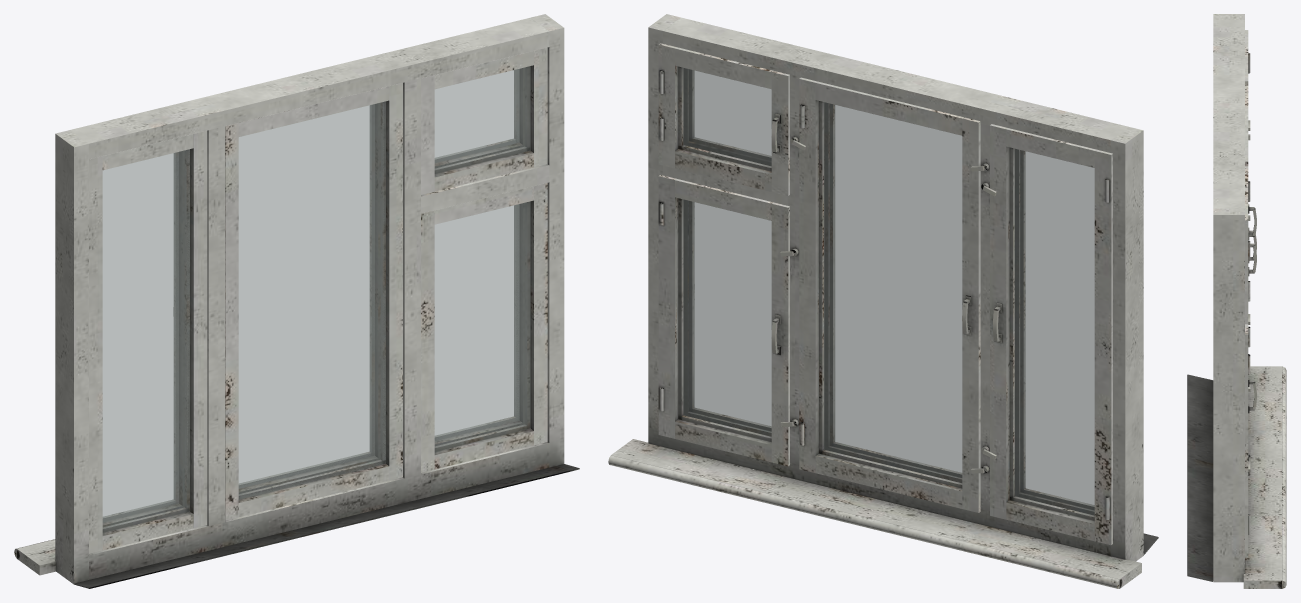
File: win_3_fort_left_web.glb
3 views of the same model, side by side, from view 1: azimuth 30°, elevation 25°; view 2: azimuth 150°, elevation 25°; view 3: azimuth 270°, elevation 25° (orthographic). The views are drawn at different scales.
Visible parts, largest first — view 1: Win3FortLeft_Body, Glass_Sash_C_out, Glass_Sash_C_in, Glass_Sash_R_out, Glass_Sash_R_in, Sash_C_Mesh, Sash_R_Mesh, Glass_Sash_L_out, Glass_Sash_L_in, Sash_L_Mesh, Fort_L_Mesh, Glass_Fort_L_out (+1 smaller); view 2: Win3FortLeft_Body, Glass_Sash_C_in, Glass_Sash_C_out, Sash_C_Mesh, Glass_Sash_R_in, Sash_R_Mesh, Glass_Sash_R_out, Glass_Sash_L_in, Sash_L_Mesh, Glass_Sash_L_out, Fort_L_Mesh, Glass_Fort_L_in (+1 smaller); view 3: Win3FortLeft_Body, Sash_L_Mesh, Fort_L_Mesh, Sash_C_Mesh, Sash_R_Mesh.
Part boxes in pixels (x1=…): Win3FortLeft_Body: x1=14, y1=14, x2=579, y2=588; Glass_Sash_C_out: x1=239, y1=102, x2=385, y2=499; Glass_Sash_C_in: x1=239, y1=105, x2=374, y2=488; Glass_Sash_R_out: x1=103, y1=149, x2=189, y2=532; Glass_Sash_R_in: x1=103, y1=153, x2=178, y2=521; Sash_C_Mesh: x1=225, y1=83, x2=402, y2=520; Sash_R_Mesh: x1=89, y1=130, x2=207, y2=553; Glass_Sash_L_out: x1=435, y1=202, x2=530, y2=451; Glass_Sash_L_in: x1=435, y1=204, x2=519, y2=440; Sash_L_Mesh: x1=421, y1=183, x2=547, y2=472; Fort_L_Mesh: x1=421, y1=47, x2=547, y2=194; Glass_Fort_L_out: x1=435, y1=66, x2=530, y2=173; Win3FortLeft_Body: x1=608, y1=14, x2=1158, y2=588; Glass_Sash_C_in: x1=824, y1=102, x2=961, y2=482; Glass_Sash_C_out: x1=835, y1=105, x2=961, y2=472; Sash_C_Mesh: x1=799, y1=77, x2=980, y2=512; Glass_Sash_R_in: x1=1015, y1=149, x2=1094, y2=515; Sash_R_Mesh: x1=990, y1=124, x2=1112, y2=545; Glass_Sash_R_out: x1=1025, y1=152, x2=1094, y2=504; Glass_Sash_L_in: x1=683, y1=200, x2=771, y2=436; Sash_L_Mesh: x1=658, y1=175, x2=789, y2=466; Glass_Sash_L_out: x1=694, y1=202, x2=771, y2=425; Fort_L_Mesh: x1=658, y1=43, x2=789, y2=195; Glass_Fort_L_in: x1=683, y1=68, x2=771, y2=165; Win3FortLeft_Body: x1=1187, y1=14, x2=1286, y2=588; Sash_L_Mesh: x1=1245, y1=324, x2=1256, y2=557; Fort_L_Mesh: x1=1245, y1=166, x2=1256, y2=324; Sash_C_Mesh: x1=1245, y1=86, x2=1256, y2=475; Sash_R_Mesh: x1=1245, y1=30, x2=1256, y2=347.
Size of the model in its own units: 1.92 by 1.54 by 0.3765.
Materials: 2 (1 with a texture image).
